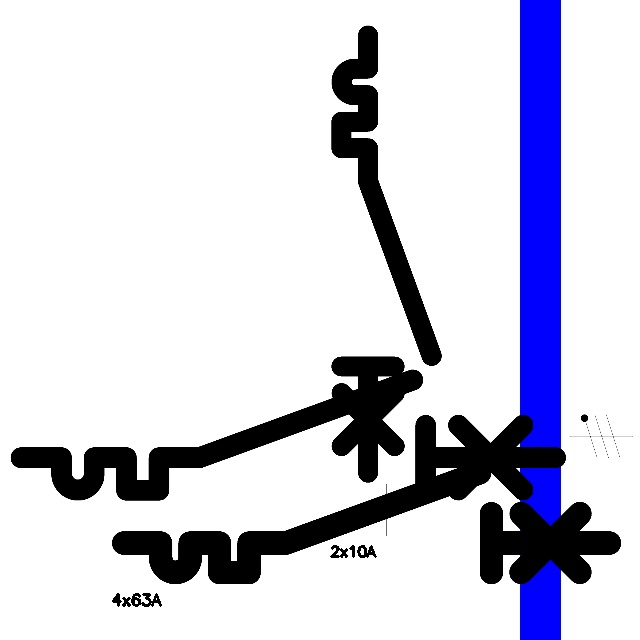interruptor_termomagnetico: (7, 366, 569, 504), (111, 460, 622, 585), (330, 24, 442, 484)
